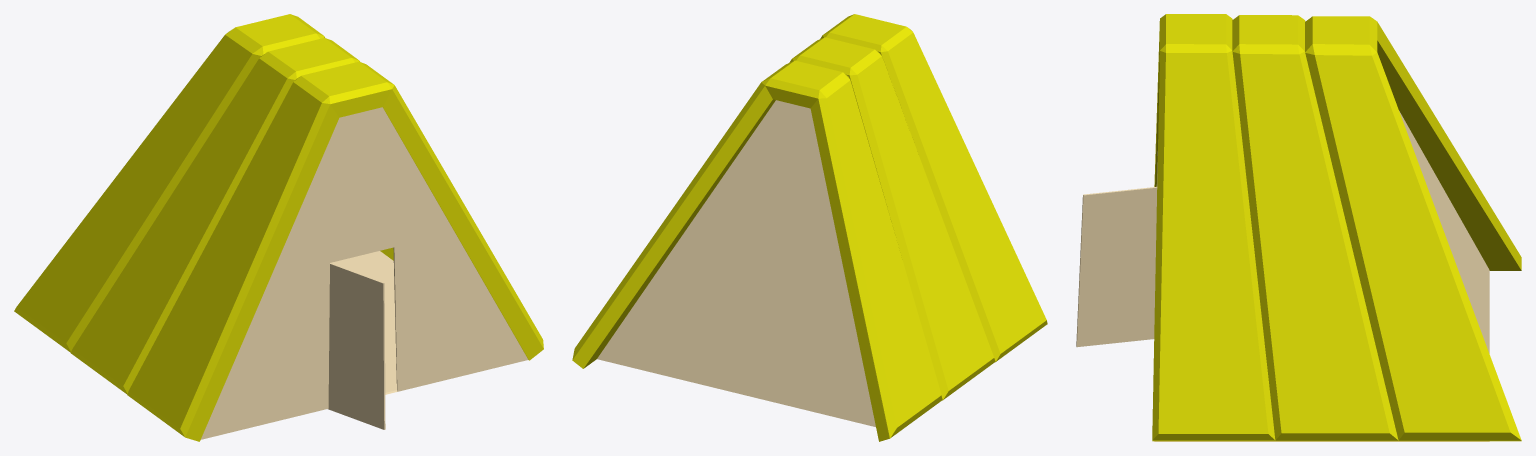
Rendered from tent3.fbx.
3 views of the same model, side by side, from view 1: azimuth 30°, elevation 25°; view 2: azimuth 150°, elevation 25°; view 3: azimuth 270°, elevation 25° (orthographic). The views are drawn at different scales.
Visible parts, largest first — view 1: top, Cube; view 2: top, Cube; view 3: top, Cube.
Part boxes in pixels (x1=…): top: x1=14, y1=14, x2=543, y2=441; Cube: x1=200, y1=107, x2=528, y2=439; top: x1=572, y1=14, x2=1047, y2=441; Cube: x1=597, y1=100, x2=875, y2=426; top: x1=1152, y1=14, x2=1521, y2=441; Cube: x1=1076, y1=111, x2=1489, y2=441.
Size of the model in its own units: 198 by 161 by 198.
